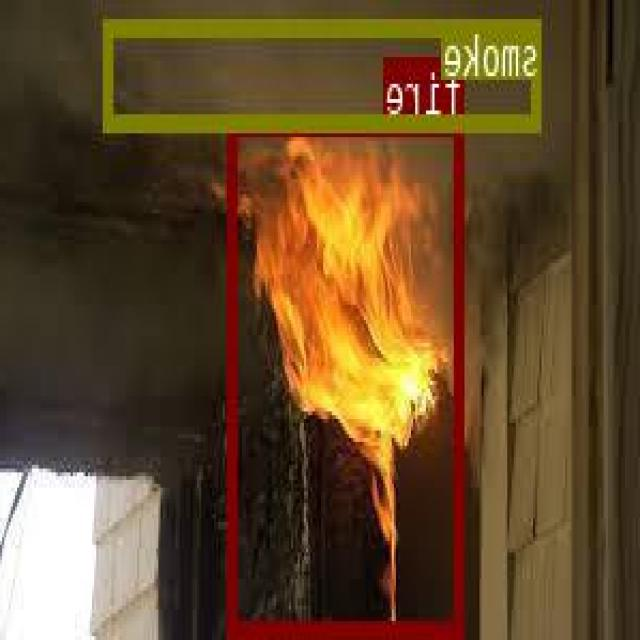fire: (231, 118, 466, 632)
smoke: (105, 17, 543, 128)
